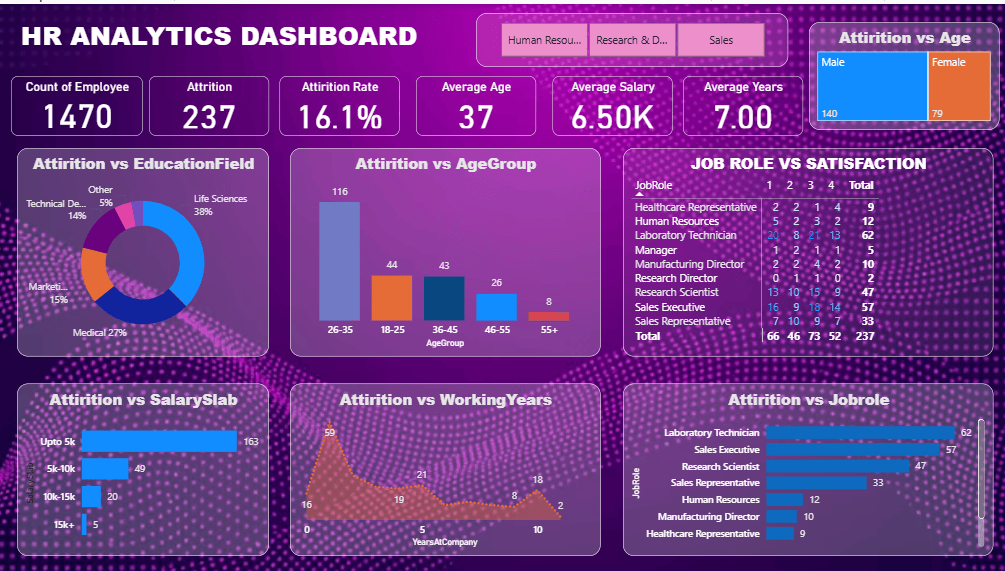

What the dashboard file says about the page in this screenshot:
{"tool":"powerbi","page":{"name":"Page 1","canvas":[1280,720],"ordinal":0},"visuals":[{"type":"card","title":"Count of Employee","fields":{"Values":["Count(HR_Analytics.EmpID)"]},"box":[18.9,90.7,149.3,75.6],"z":0},{"type":"card","title":"Attrition","fields":{"Values":["Sum(HR_Analytics.AttiritionCount)"]},"box":[192.8,90.7,151.2,75.6],"z":1000},{"type":"card","title":"Attirition Rate","fields":{"Values":["HR_Analytics.AttiritionRate"]},"box":[357.2,90.7,151.2,75.6],"z":2000},{"type":"card","title":"Average Age","fields":{"Values":["Avg(HR_Analytics.Age)"]},"box":[529.1,90.7,151.2,75.6],"z":3000},{"type":"card","title":"Average Salary","fields":{"Values":["Avg(HR_Analytics.MonthlyIncome)"]},"box":[701.1,90.7,151.2,75.6],"z":4000},{"type":"card","title":"Average Years","fields":{"Values":["Avg(HR_Analytics.YearsAtCompany)"]},"box":[865.5,90.7,151.2,75.6],"z":5000},{"type":"donutChart","title":"Attirition vs EducationField","fields":{"Category":["HR_Analytics.EducationField"],"Y":["Sum(HR_Analytics.AttiritionCount)"]},"box":[26.5,181.4,317.5,262.7],"z":6000},{"type":"clusteredColumnChart","title":"Attirition vs AgeGroup","fields":{"Category":["HR_Analytics.AgeGroup"],"Y":["Sum(HR_Analytics.AttiritionCount)"]},"box":[370.4,181.4,391.2,262.7],"z":7000},{"type":"pivotTable","title":"JOB ROLE VS SATISFACTION","fields":{"Rows":["HR_Analytics.JobRole"],"Columns":["HR_Analytics.JobSatisfaction"],"Values":["Sum(HR_Analytics.AttiritionCount)"]},"box":[789.9,181.4,466.8,262.7],"z":8000},{"type":"barChart","title":"Attirition vs SalarySlab","fields":{"Category":["HR_Analytics.SalarySlab"],"Y":["Sum(HR_Analytics.AttiritionCount)"]},"box":[26.5,478.1,317.5,217.3],"z":9000},{"type":"areaChart","title":"Attirition vs WorkingYears","fields":{"Category":["HR_Analytics.YearsAtCompany"],"Y":["Sum(HR_Analytics.AttiritionCount)"]},"box":[370.4,478.1,391.2,217.3],"z":10000},{"type":"barChart","title":"Attirition vs Jobrole","fields":{"Category":["HR_Analytics.JobRole"],"Y":["Sum(HR_Analytics.AttiritionCount)"]},"box":[789.9,478.1,466.8,217.3],"z":11000},{"type":"treemap","title":"Attirition vs Age","fields":{"Group":["HR_Analytics.Gender"],"Values":["Sum(HR_Analytics.AttiritionCount)"]},"box":[1024.3,22.7,240,136.1],"z":12000},{"type":"slicer","fields":{"Values":["HR_Analytics.Department"]},"box":[604.7,11.3,393.1,68],"z":13000},{"type":"textbox","box":[26.5,11.3,553.7,56.7],"z":14000}]}

Visuals, with their boxes in screenshot pixels (x1, y1, x2, y2), scaled from the page's 1280x720 canvas onto the 1005x571 screenshot:
"Count of Employee" card: 15,72,132,132
"Attrition" card: 151,72,270,132
"Attirition Rate" card: 280,72,399,132
"Average Age" card: 415,72,534,132
"Average Salary" card: 550,72,669,132
"Average Years" card: 680,72,798,132
"Attirition vs EducationField" donutChart: 21,144,270,352
"Attirition vs AgeGroup" clusteredColumnChart: 291,144,598,352
"JOB ROLE VS SATISFACTION" pivotTable: 620,144,987,352
"Attirition vs SalarySlab" barChart: 21,379,270,551
"Attirition vs WorkingYears" areaChart: 291,379,598,551
"Attirition vs Jobrole" barChart: 620,379,987,551
"Attirition vs Age" treemap: 804,18,993,126
slicer - HR_Analytics.Department: 475,9,783,63
textbox: 21,9,456,54
